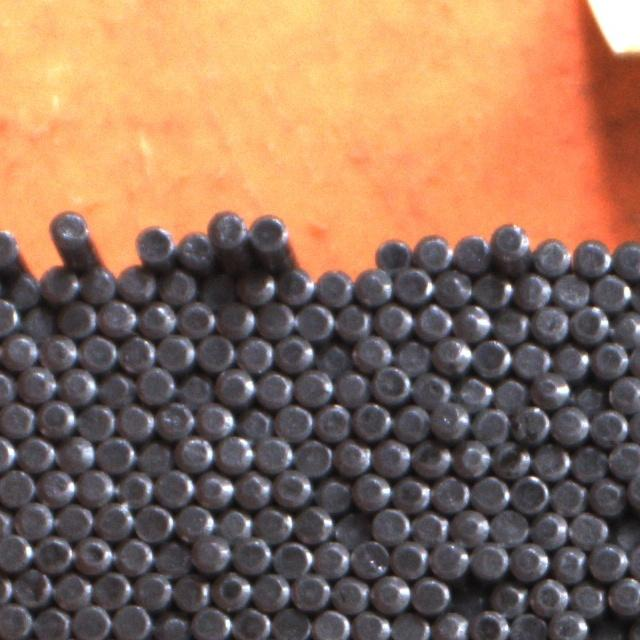tool: (135, 225, 175, 267), (489, 220, 529, 262), (430, 399, 470, 440), (50, 208, 90, 249), (470, 472, 510, 512), (393, 264, 433, 304), (14, 498, 54, 538), (569, 302, 609, 342), (196, 331, 235, 371), (112, 601, 152, 640), (410, 575, 450, 614), (372, 364, 411, 404), (371, 436, 410, 476), (92, 568, 132, 607), (190, 532, 230, 571), (12, 568, 51, 608), (36, 398, 75, 438), (589, 406, 628, 446), (432, 334, 471, 374), (231, 534, 271, 573), (33, 532, 72, 572), (489, 506, 528, 546), (392, 337, 432, 376), (508, 541, 548, 580), (251, 571, 290, 610), (473, 270, 512, 309), (274, 332, 313, 371), (214, 366, 253, 405), (370, 573, 409, 612), (351, 332, 390, 371), (97, 433, 136, 472), (293, 503, 332, 542), (211, 570, 250, 609), (569, 443, 608, 482), (413, 301, 452, 340), (136, 365, 175, 404), (294, 302, 333, 341), (194, 469, 233, 508), (214, 432, 253, 471), (392, 402, 431, 441), (133, 502, 172, 541), (588, 541, 627, 580), (511, 474, 550, 513), (116, 332, 155, 371), (74, 534, 113, 573), (434, 268, 473, 307), (472, 338, 511, 377), (273, 538, 312, 577), (117, 263, 156, 302), (54, 500, 93, 539), (411, 438, 450, 477), (209, 207, 248, 246), (352, 399, 390, 439), (472, 404, 510, 444), (314, 266, 352, 306), (591, 272, 629, 312), (512, 403, 550, 443), (333, 300, 371, 340), (0, 330, 38, 370), (353, 266, 391, 306), (18, 362, 56, 402), (77, 400, 115, 440), (171, 571, 210, 609), (530, 303, 568, 342), (273, 468, 311, 507), (550, 404, 588, 443), (175, 432, 213, 471), (254, 433, 292, 472), (174, 502, 212, 541), (292, 570, 331, 608), (40, 266, 79, 304), (72, 601, 110, 640), (451, 506, 489, 545), (98, 297, 136, 336), (313, 401, 351, 440), (254, 369, 292, 408), (294, 367, 332, 406), (391, 474, 430, 512), (513, 271, 551, 310), (16, 433, 55, 471), (37, 466, 76, 504), (431, 473, 469, 512), (195, 399, 233, 438), (133, 570, 172, 608), (137, 298, 175, 337), (156, 399, 194, 438), (94, 500, 132, 539), (528, 576, 567, 614), (155, 331, 193, 370), (76, 467, 114, 506), (158, 268, 197, 306), (530, 508, 568, 547), (550, 542, 588, 581), (52, 571, 91, 609), (254, 503, 292, 542), (294, 436, 332, 475), (452, 438, 491, 476), (177, 298, 215, 337), (530, 442, 569, 480), (58, 366, 96, 405), (350, 538, 388, 577), (115, 468, 154, 506), (389, 538, 428, 576), (56, 433, 94, 472), (256, 299, 295, 337), (332, 437, 370, 476), (154, 468, 192, 507), (588, 476, 627, 514), (454, 302, 492, 341), (470, 539, 508, 578), (568, 510, 607, 548), (429, 539, 467, 578), (178, 231, 216, 270), (234, 404, 273, 442), (573, 236, 612, 274), (533, 235, 571, 274), (488, 580, 527, 618), (449, 578, 488, 616), (248, 214, 287, 252), (190, 603, 230, 640), (412, 371, 452, 408), (552, 270, 590, 308), (96, 368, 134, 406), (274, 402, 312, 440), (78, 332, 116, 370), (314, 474, 352, 512), (549, 476, 587, 514), (216, 299, 254, 337), (374, 300, 412, 338), (116, 401, 154, 439), (234, 470, 272, 508), (276, 267, 314, 305), (58, 299, 96, 337), (115, 535, 153, 573), (492, 305, 530, 343), (454, 372, 492, 410), (569, 578, 607, 616), (175, 369, 213, 407), (531, 369, 569, 407), (512, 340, 550, 378), (135, 437, 173, 475), (332, 368, 370, 406), (410, 507, 448, 545), (590, 340, 628, 378), (413, 231, 451, 269), (79, 265, 117, 303), (331, 509, 369, 547), (372, 504, 409, 543), (331, 574, 368, 613), (453, 232, 490, 271), (313, 538, 350, 577), (39, 332, 78, 369), (491, 441, 530, 478), (352, 471, 389, 509), (215, 505, 252, 543), (551, 341, 589, 378), (236, 334, 273, 372), (492, 375, 530, 412), (153, 538, 190, 576), (237, 268, 274, 306), (314, 338, 351, 376), (2, 269, 40, 306), (198, 269, 236, 306), (31, 604, 70, 640), (232, 605, 272, 640), (607, 574, 640, 616), (19, 304, 57, 340), (569, 379, 607, 415), (0, 398, 35, 437), (0, 467, 35, 506), (372, 237, 409, 273), (217, 239, 255, 274), (272, 606, 310, 640), (310, 607, 349, 640), (548, 607, 587, 640), (0, 530, 32, 570), (468, 608, 508, 640), (608, 373, 640, 412), (608, 440, 640, 479), (431, 607, 468, 640), (351, 608, 389, 640), (152, 608, 190, 640), (0, 600, 31, 639), (508, 610, 548, 640), (610, 307, 640, 346), (389, 610, 428, 640), (610, 514, 640, 550), (613, 238, 640, 277), (589, 616, 627, 640), (0, 298, 19, 336), (0, 230, 18, 269), (0, 368, 16, 406)
